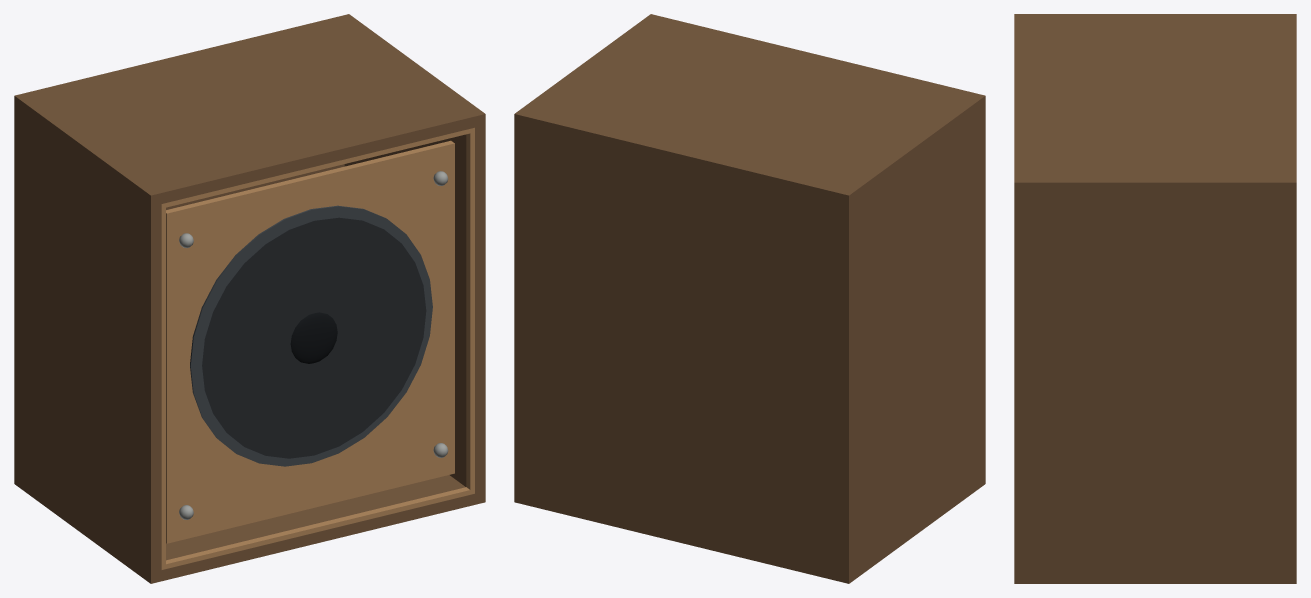
File: large-woofer.glb
3 renders of one model, left to right at view 1: azimuth 30°, elevation 25°; view 2: azimuth 150°, elevation 25°; view 3: azimuth 270°, elevation 25°, orthographic. The views are drawn at different scales.
Parts seen in each view (by area): view 1: CabinetLeft, CabinetTop, Baffle, EmitterLow, Cabinet, CabinetRight, WooferSurround, FrontTrimRight, FrontTrimBottom, DustCap, FrontTrimLeft, FrontTrimTop; view 2: CabinetBack, CabinetLeft, CabinetTop, Cabinet, CabinetRight; view 3: CabinetRight, CabinetTop, Cabinet.
Part boxes in pixels (bbox=[...]): CabinetLeft: bbox=[14, 107, 161, 572]; CabinetTop: bbox=[14, 14, 485, 206]; Baffle: bbox=[166, 140, 454, 543]; EmitterLow: bbox=[202, 217, 426, 458]; Cabinet: bbox=[14, 473, 485, 583]; CabinetRight: bbox=[344, 125, 485, 493]; WooferSurround: bbox=[190, 205, 432, 466]; FrontTrimRight: bbox=[466, 129, 474, 492]; FrontTrimBottom: bbox=[161, 487, 474, 569]; DustCap: bbox=[290, 312, 337, 363]; FrontTrimLeft: bbox=[161, 207, 165, 566]; FrontTrimTop: bbox=[161, 127, 474, 208]; CabinetBack: bbox=[525, 127, 838, 569]; CabinetLeft: bbox=[838, 107, 985, 572]; CabinetTop: bbox=[514, 14, 985, 206]; Cabinet: bbox=[514, 473, 985, 583]; CabinetRight: bbox=[514, 125, 524, 493]; CabinetRight: bbox=[1014, 194, 1296, 572]; CabinetTop: bbox=[1014, 14, 1296, 194]; Cabinet: bbox=[1014, 572, 1296, 583].
Bounding box in the file's own units: 0.92 × 1.02 × 0.65.
